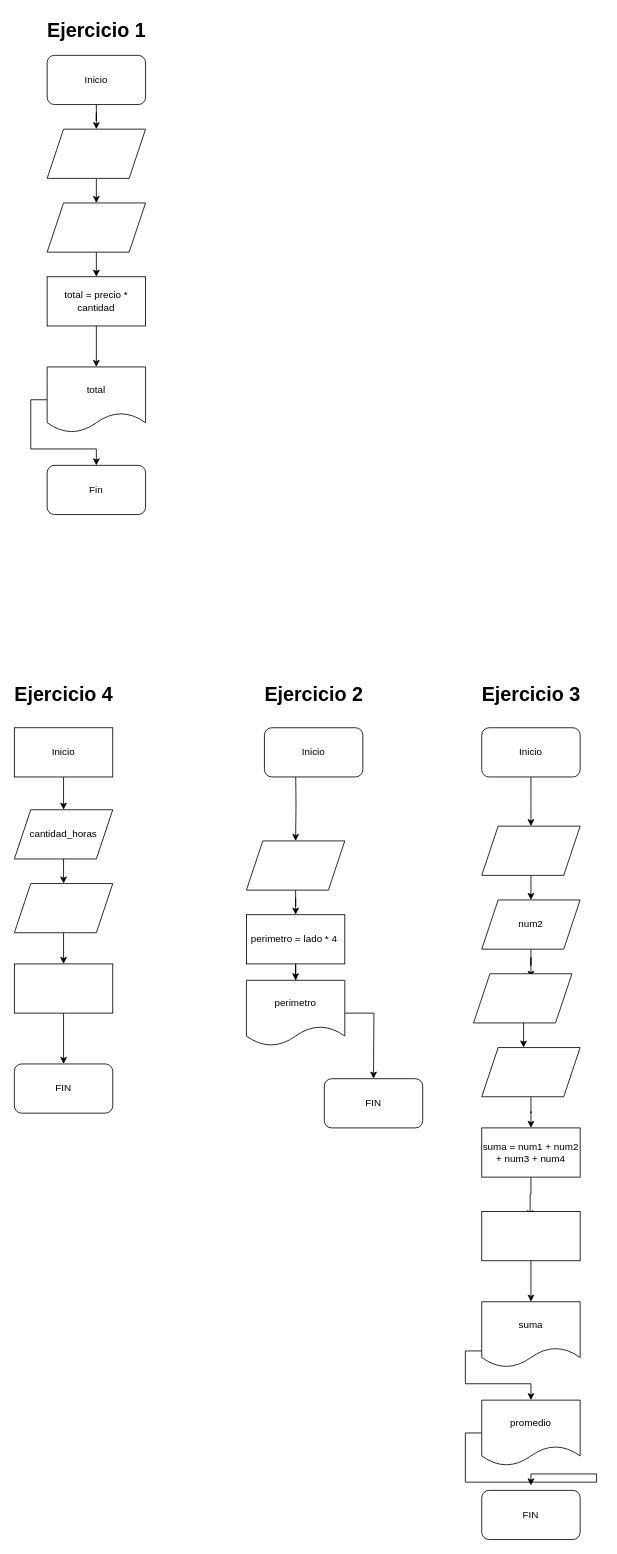
Some shapes in this 617 by 1554 pixel diagram are drawn without their labels. The centre of each missing label's shape, as x and y in pixels:
"cantidad" belongs at point (96, 227).
"lado" belongs at point (295, 865).
"num1" belongs at point (530, 850).
"num3" belongs at point (522, 998).
"num4" belongs at point (530, 1072).
"precio" belongs at point (96, 153).
"promedio = suma / 4" belongs at point (530, 1236).
"sueldo = valor_por_hora * cantidad_horas" belongs at point (63, 988).
"valor_por_hora" belongs at point (63, 908).
